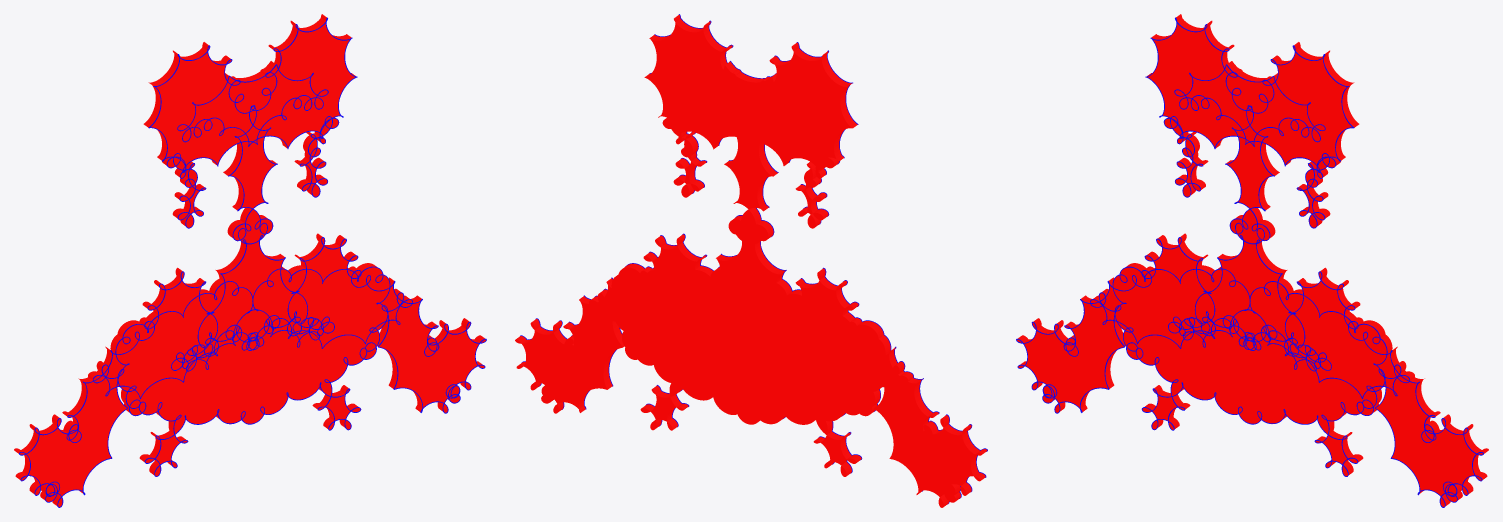
3 views of the same model, side by side, from view 1: azimuth 30°, elevation 25°; view 2: azimuth 150°, elevation 25°; view 3: azimuth 330°, elevation 25° (orthographic).
Bounding box in the file's own units: 1 × 0.8717 × 0.0209.
